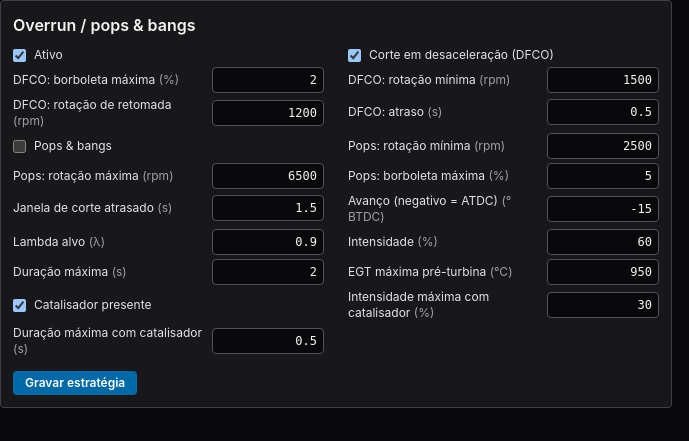
Scenario: formulários por subtipo › regra entre campos (two_step/overrun) e vírgula decimal
Replace the text in the field labelled "DFCO: rotação de retomada (rpm)" with "1600" at (268, 113), box 212,100 -> 324,126
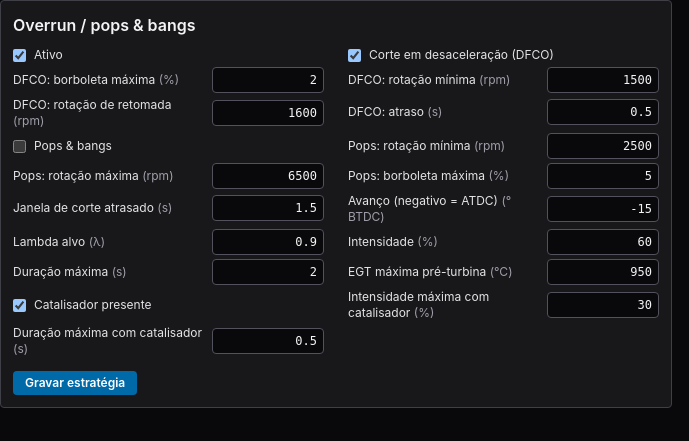
Replace the text in the field labelled "Lambda alvo (λ)" with "0,95" at (268, 242), box 212,229 -> 324,255
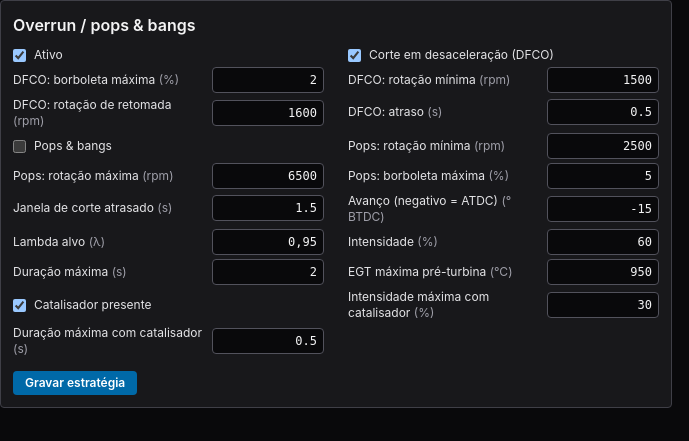
Click the button "Gravar estratégia" at (75, 383), box 13,371 -> 137,395
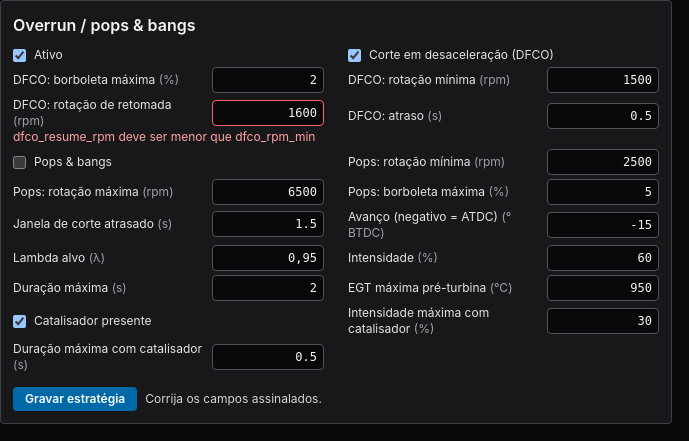
Check: the text "dfco_resume_rpm deve ser menor que dfco_rpm_min" is shown, box 13,129 -> 324,145
Replace the text in the field labelled "DFCO: rotação de retomada (rpm)" with "1200" at (268, 113), box 212,100 -> 324,126
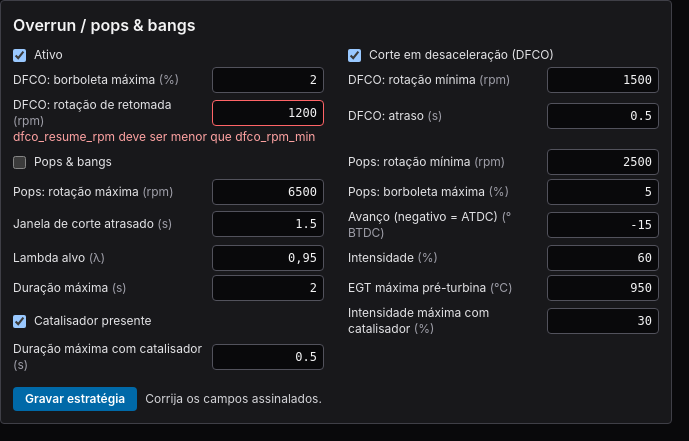
Click the button "Gravar estratégia" at (75, 399), box 13,387 -> 137,411
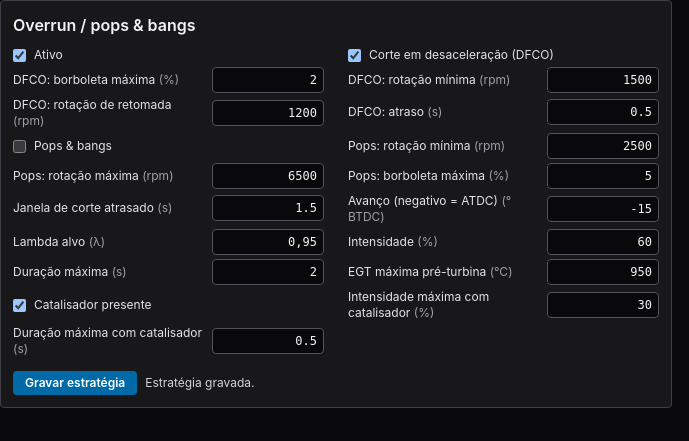
Check: the text "Estratégia gravada." is shown, box 145,375 -> 254,391
